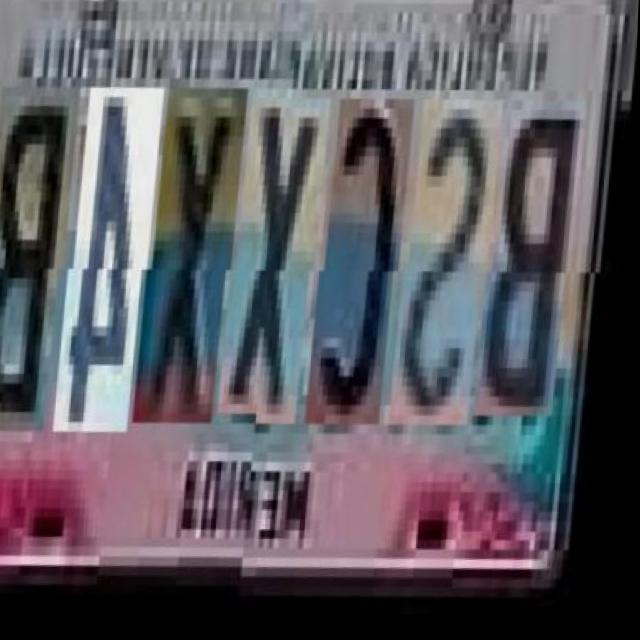4: (61, 102, 162, 454)
b: (482, 104, 585, 427), (0, 100, 78, 452)
c: (314, 104, 413, 436)
s: (398, 103, 502, 436)
x: (141, 102, 245, 445), (226, 103, 329, 435)
